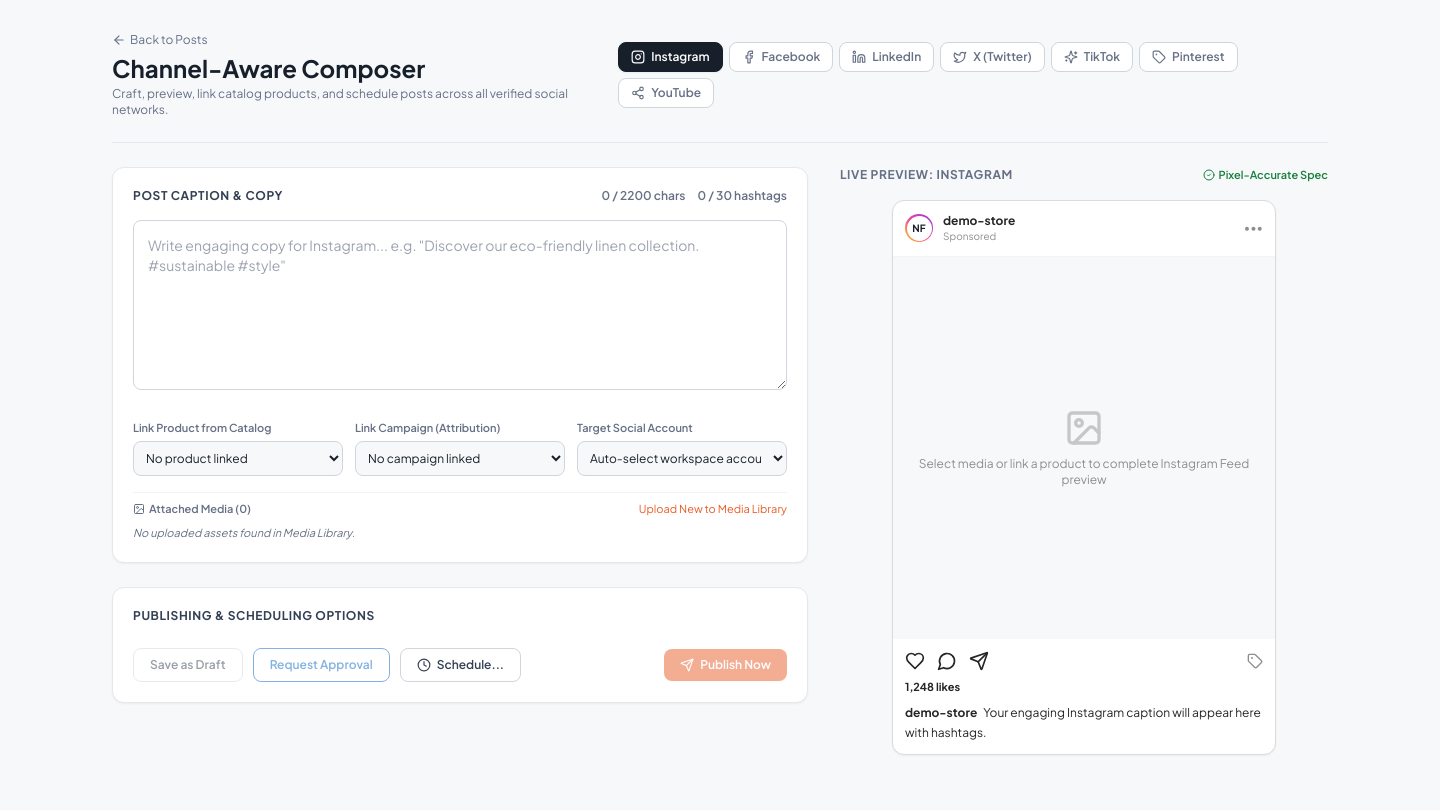
Test: ComposerPage › allows selecting a campaign and renders the campaign attribution badge in preview
The image size is (1440, 810).
Select "Summer Clearance Drop (summer-clearance)" in the dropdown labelled "Link Campaign (Attribution)" at (460, 458), box x1=355 y1=440 x2=565 y2=476
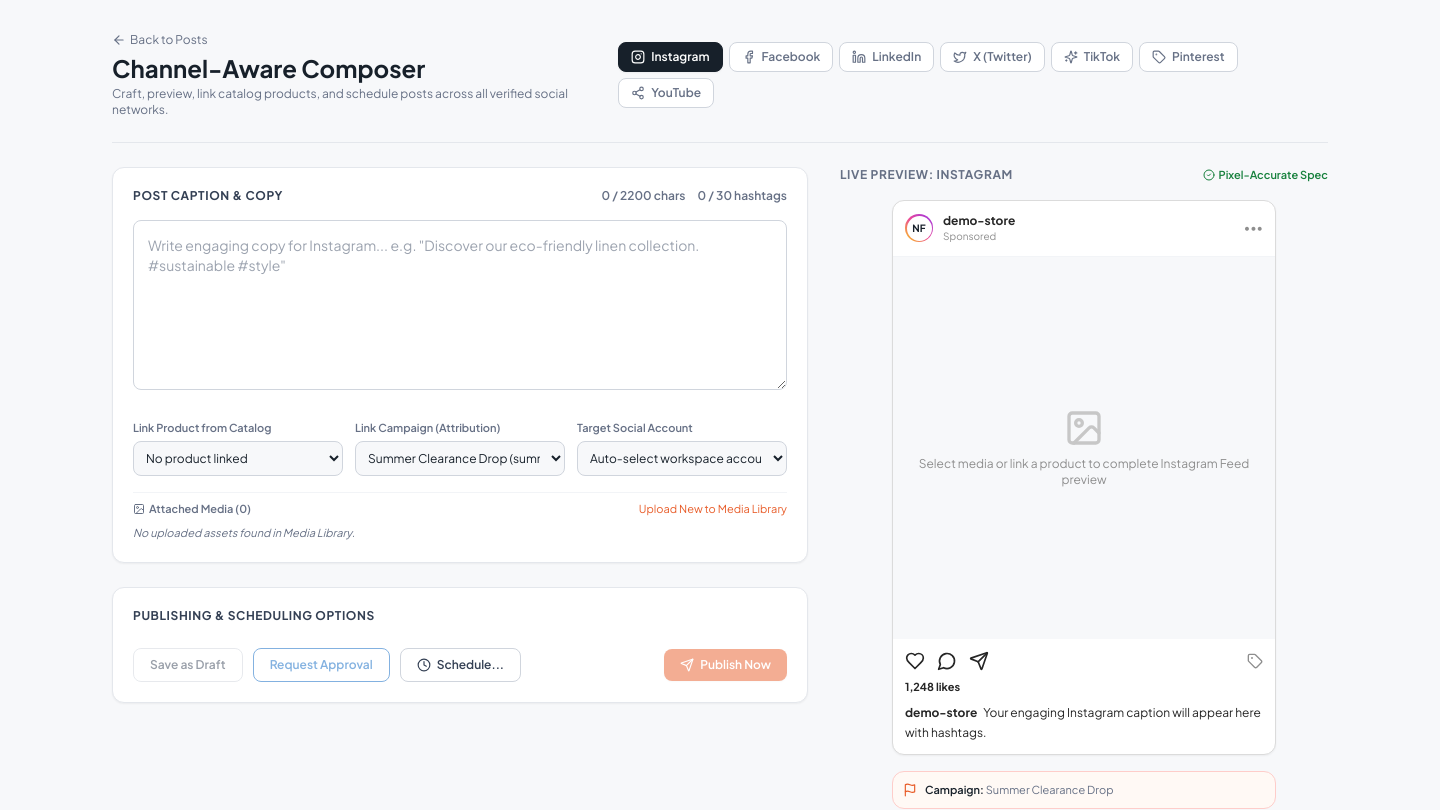
Check: the text "Campaign:" is shown, box x1=925 y1=783 x2=986 y2=796
Check: the text "Summer Clearance Drop" is shown, box x1=986 y1=783 x2=1114 y2=796
